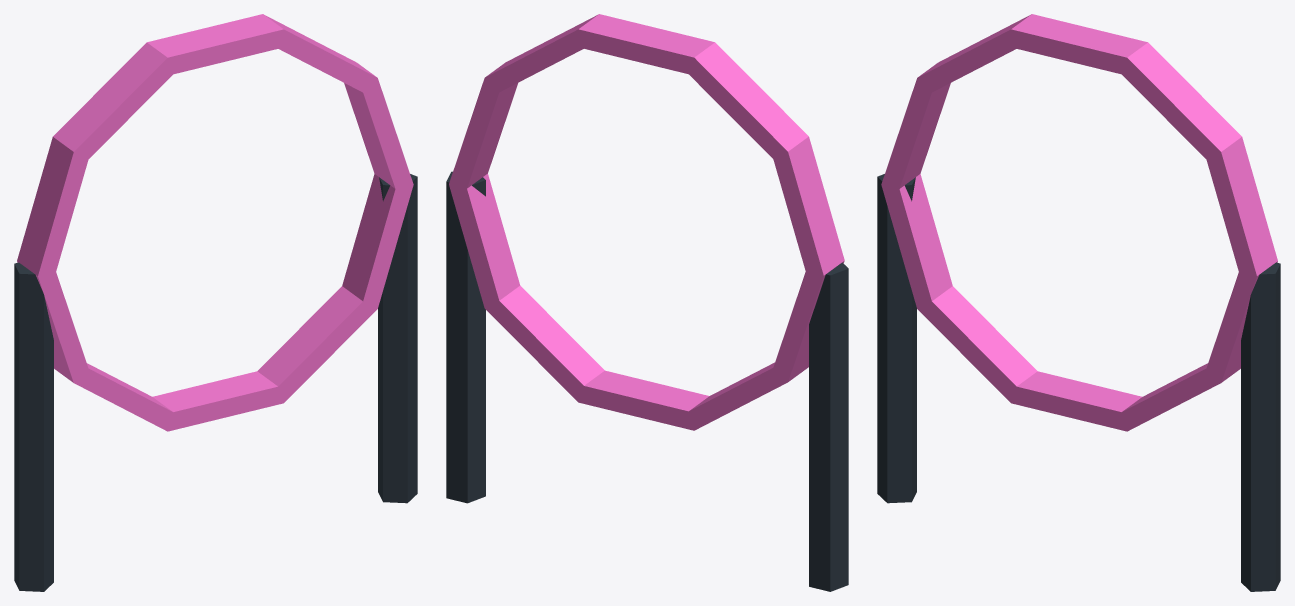
File: neon-ring.glb
The picture shows the model from 3 angles, left to right: view 1: azimuth 30°, elevation 25°; view 2: azimuth 150°, elevation 25°; view 3: azimuth 330°, elevation 25°; orthographic projection.
Parts seen in each view (by area): view 1: lab-neon-ring; view 2: lab-neon-ring; view 3: lab-neon-ring.
Part boxes in pixels (x1,y1,x2,y2): lab-neon-ring: [14, 14, 417, 591]; lab-neon-ring: [446, 14, 848, 591]; lab-neon-ring: [877, 14, 1280, 591].
Bounding box in the file's own units: 0.6571 × 0.7948 × 0.06.
